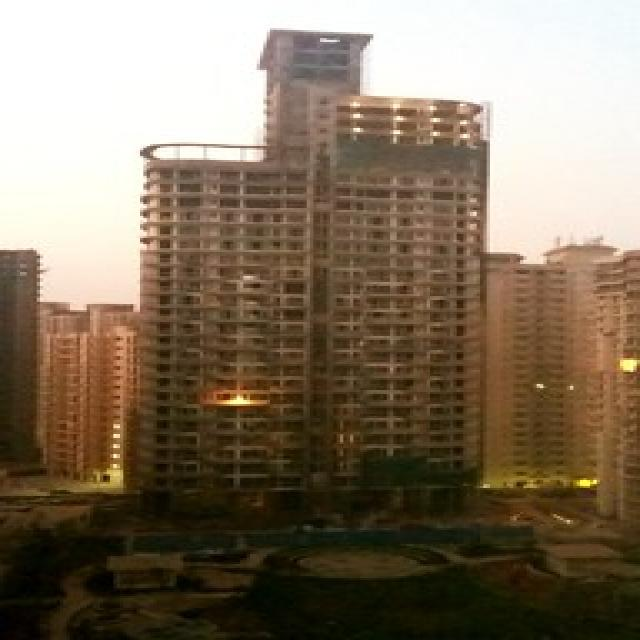Normal_building: (125, 18, 498, 528)
